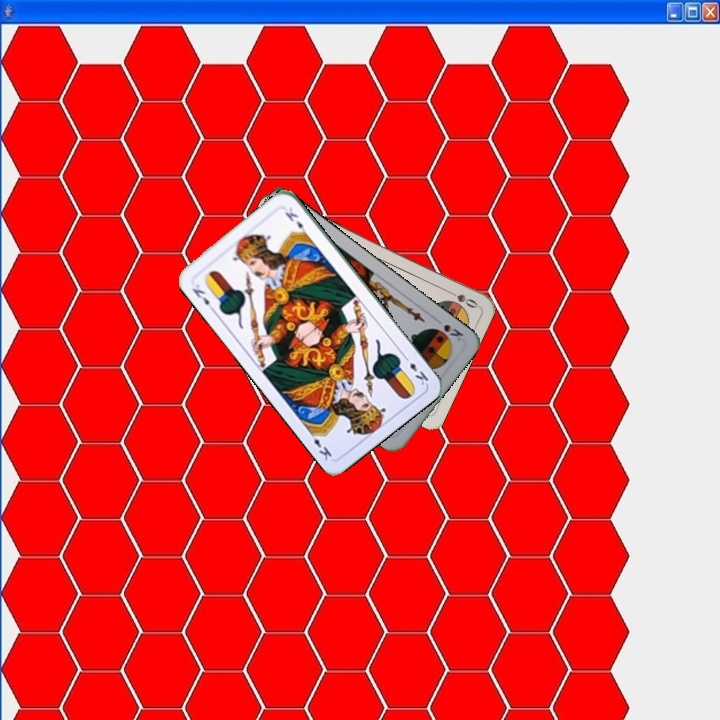EK: (399, 351, 431, 388), (188, 280, 217, 314)
SK: (431, 314, 466, 344)
SO: (442, 286, 480, 311)
